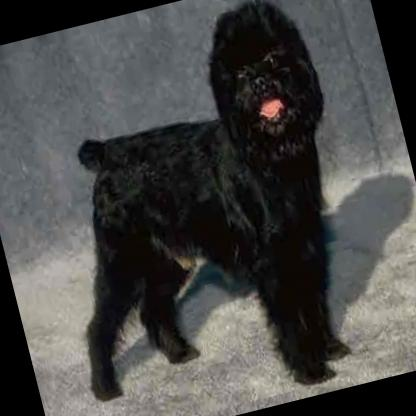affenpinscher: (11, 0, 388, 416)
